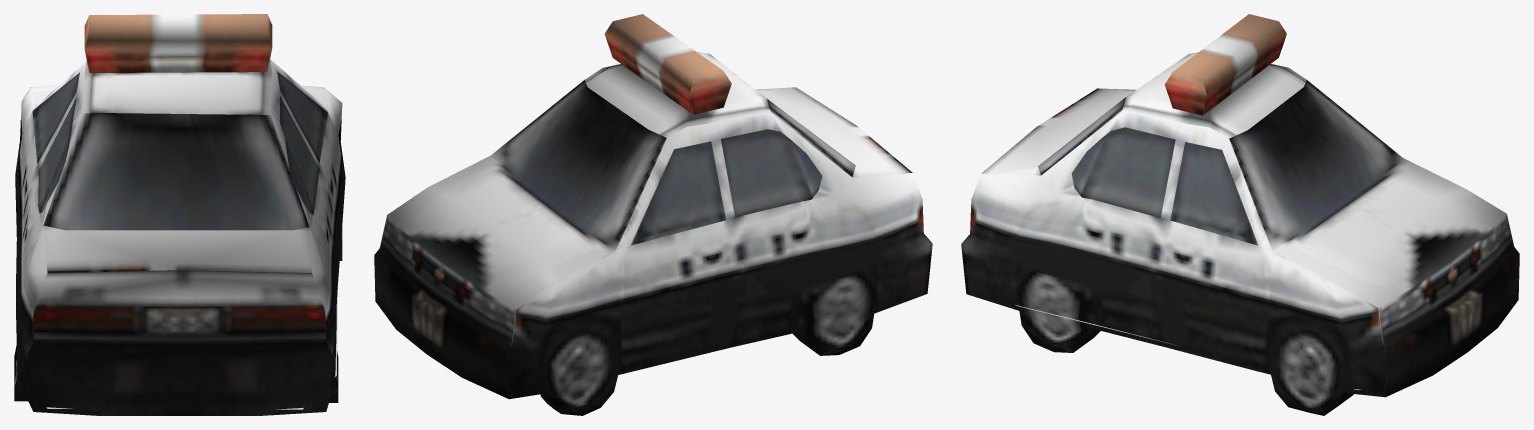
Rendered from mcicon_jp.ico.obj.
3 renders of one model, left to right at view 1: azimuth 30°, elevation 25°; view 2: azimuth 150°, elevation 25°; view 3: azimuth 270°, elevation 25°, orthographic. The views are drawn at different scales.
Size of the model in its own units: 4.28 by 2.78 by 5.04.
1 material, 1 textured.
